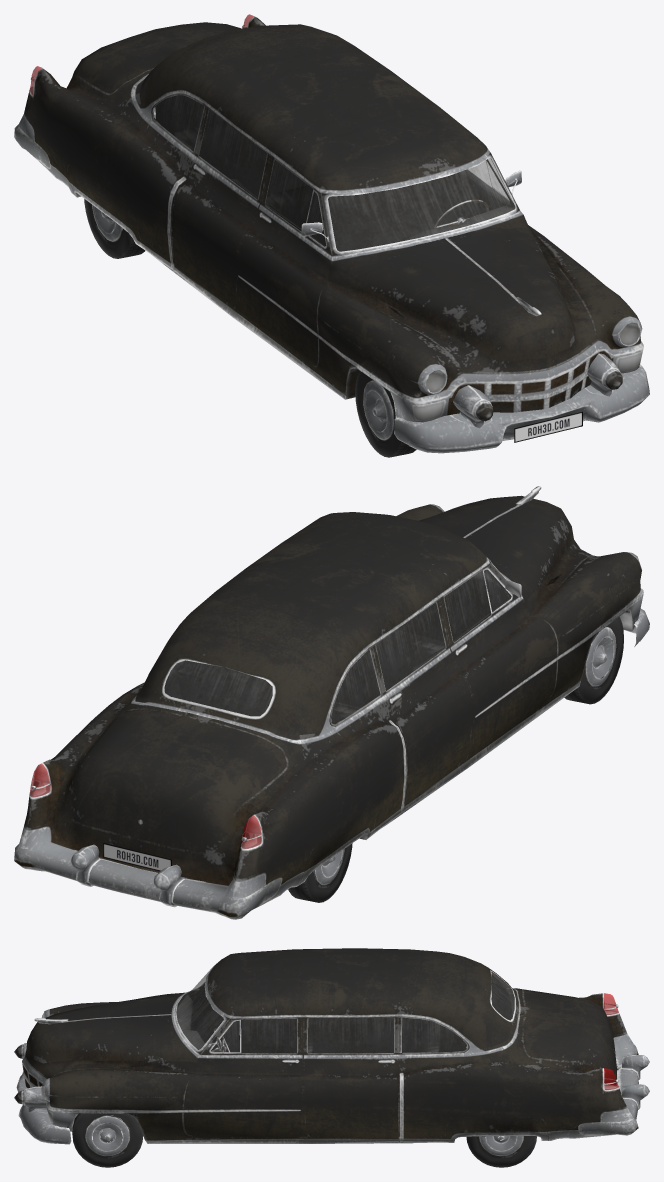
The model's file is cadillac-dirty-car.glb.
The picture shows the model from 3 angles, top to bottom: view 1: azimuth 30°, elevation 25°; view 2: azimuth 150°, elevation 25°; view 3: azimuth 270°, elevation 25°; orthographic projection. The views are drawn at different scales.
Visible parts, largest first — view 1: Object_3, Object_2; view 2: Object_3, Object_2; view 3: Object_3, Object_2.
Boxes of the visible parts, bbox=[...] form: Object_3: bbox=[14, 16, 649, 457]; Object_2: bbox=[17, 14, 641, 457]; Object_3: bbox=[14, 486, 649, 915]; Object_2: bbox=[15, 486, 642, 919]; Object_3: bbox=[16, 948, 649, 1163]; Object_2: bbox=[14, 968, 649, 1167].
Size of the model in its own units: 1.84 by 1.6 by 5.67.
1 material, 1 textured.
